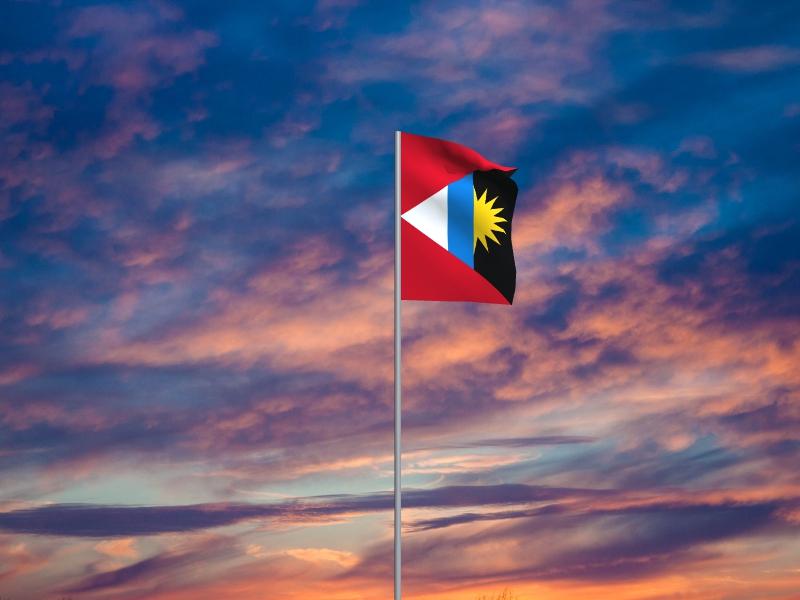ag: (402, 133, 521, 308)
